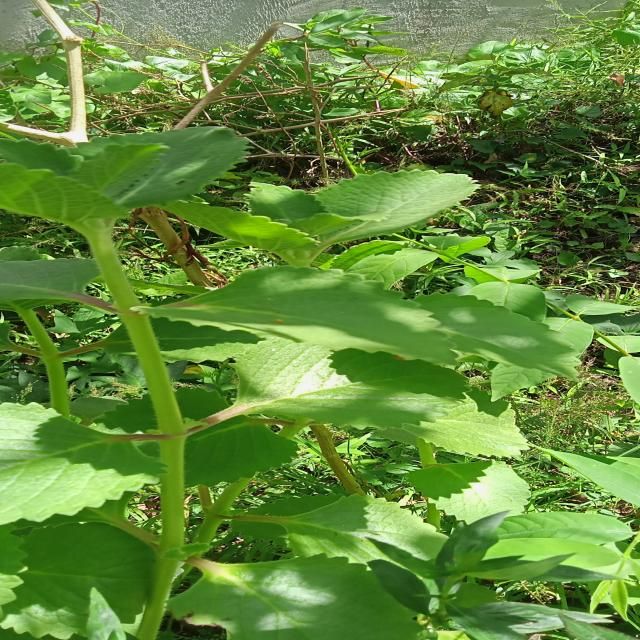Oregano: (134, 120, 490, 262), (0, 432, 225, 608), (285, 483, 510, 640), (39, 366, 318, 488), (333, 318, 609, 432), (0, 260, 239, 382), (367, 178, 616, 278), (36, 236, 294, 310), (476, 446, 592, 505)
